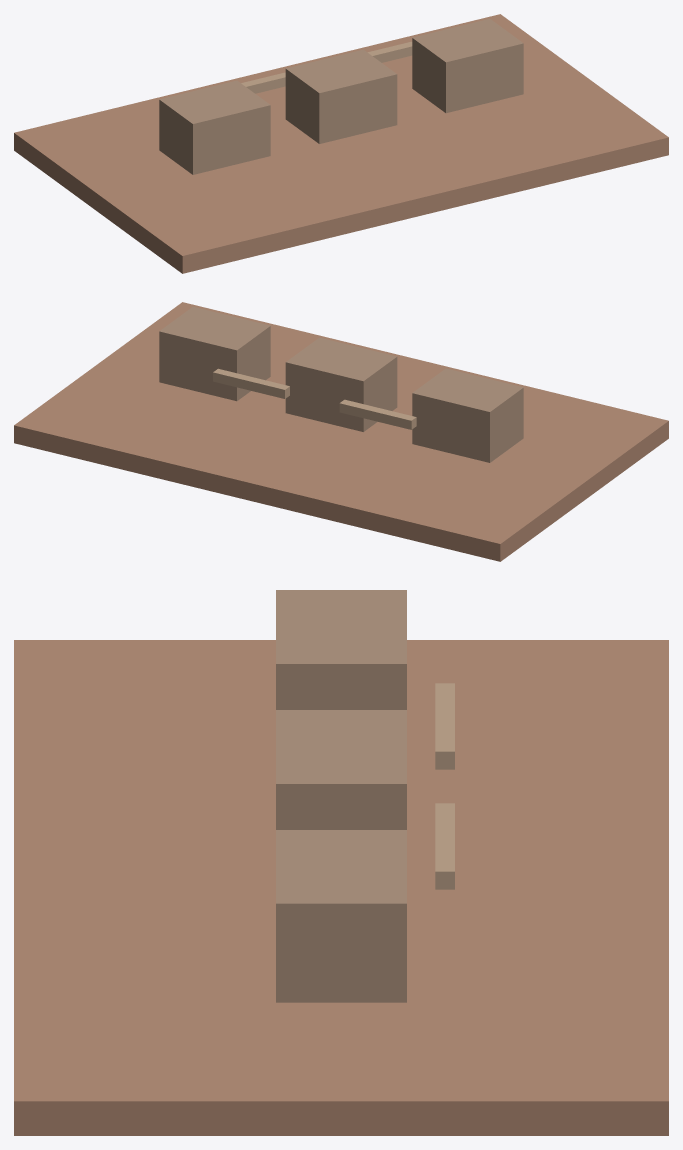
3 views of the same model, one above another, from view 1: azimuth 30°, elevation 25°; view 2: azimuth 150°, elevation 25°; view 3: azimuth 270°, elevation 25° (orthographic). The views are drawn at different scales.
Visible parts, largest first — view 1: substrate: create world class solar, [02] subsystem 2, [03] subsystem 3, [01] subsystem 1, flow 2 -> 3, flow 1 -> 2; view 2: substrate: create world class solar, [01] subsystem 1, [03] subsystem 3, [02] subsystem 2, flow 1 -> 2, flow 2 -> 3; view 3: substrate: create world class solar, [03] subsystem 3, [01] subsystem 1, [02] subsystem 2, flow 1 -> 2, flow 2 -> 3.
Part boxes in pixels (x1,y1,x2,y2): substrate: create world class solar: (14, 14, 668, 273); [02] subsystem 2: (285, 49, 397, 143); [03] subsystem 3: (412, 19, 523, 113); [01] subsystem 1: (159, 80, 270, 174); flow 2 -> 3: (367, 41, 412, 62); flow 1 -> 2: (241, 72, 285, 93); substrate: create world class solar: (14, 302, 668, 561); [01] subsystem 1: (412, 368, 523, 462); [03] subsystem 3: (159, 307, 270, 401); [02] subsystem 2: (285, 337, 397, 431); flow 1 -> 2: (339, 399, 416, 429); flow 2 -> 3: (213, 368, 289, 398); substrate: create world class solar: (14, 640, 668, 1135); [03] subsystem 3: (276, 830, 406, 1002); [01] subsystem 1: (276, 590, 406, 709); [02] subsystem 2: (276, 710, 406, 829); flow 1 -> 2: (435, 683, 454, 769); flow 2 -> 3: (435, 803, 454, 889).
Size of the model in its own units: 10 by 1.6 by 6.
